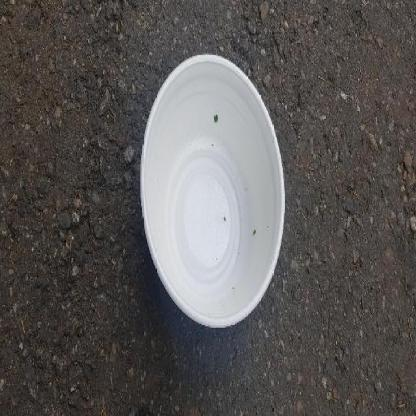Glass Cup: (139, 49, 286, 331), (140, 54, 285, 327)
